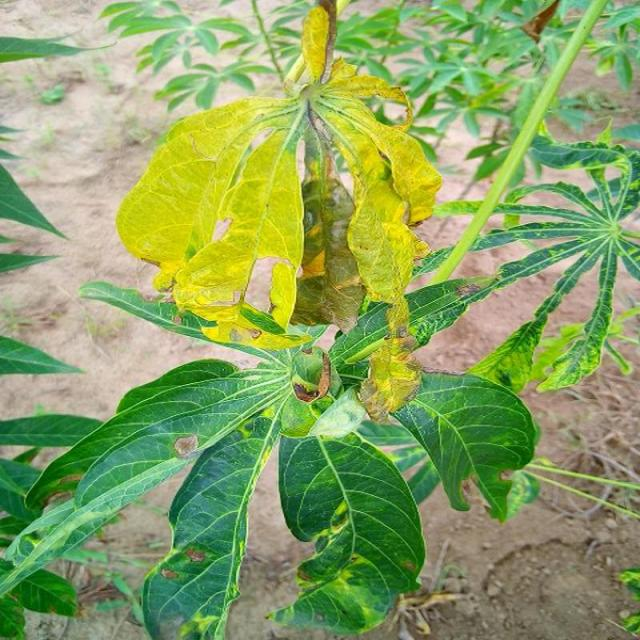cassava leaf: (3, 1, 639, 637), (116, 93, 307, 349), (269, 428, 427, 634)
